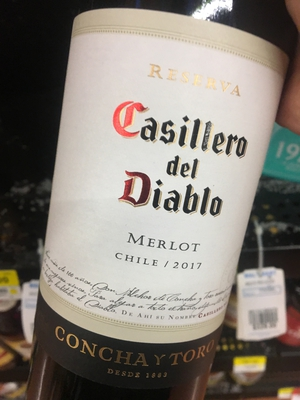casillero del diablo merlot: (39, 10, 288, 400)
